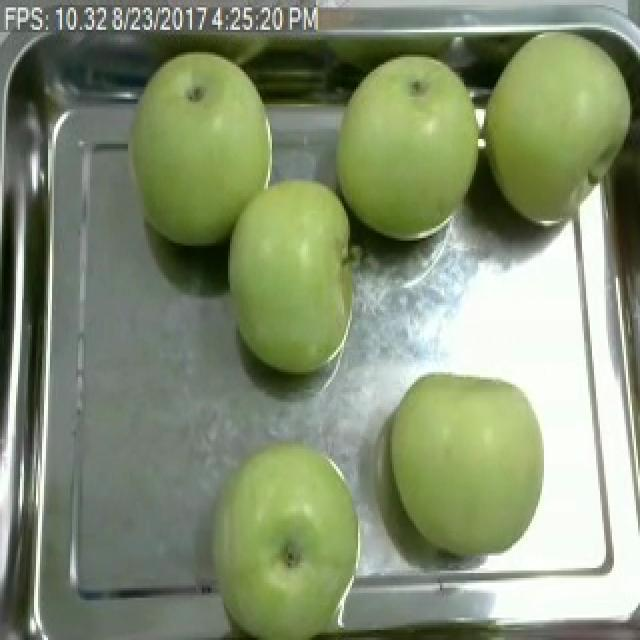50-_ripeness: (383, 359, 545, 560), (125, 52, 284, 244), (480, 28, 628, 232), (210, 446, 364, 640), (213, 188, 372, 371), (342, 34, 474, 248)
